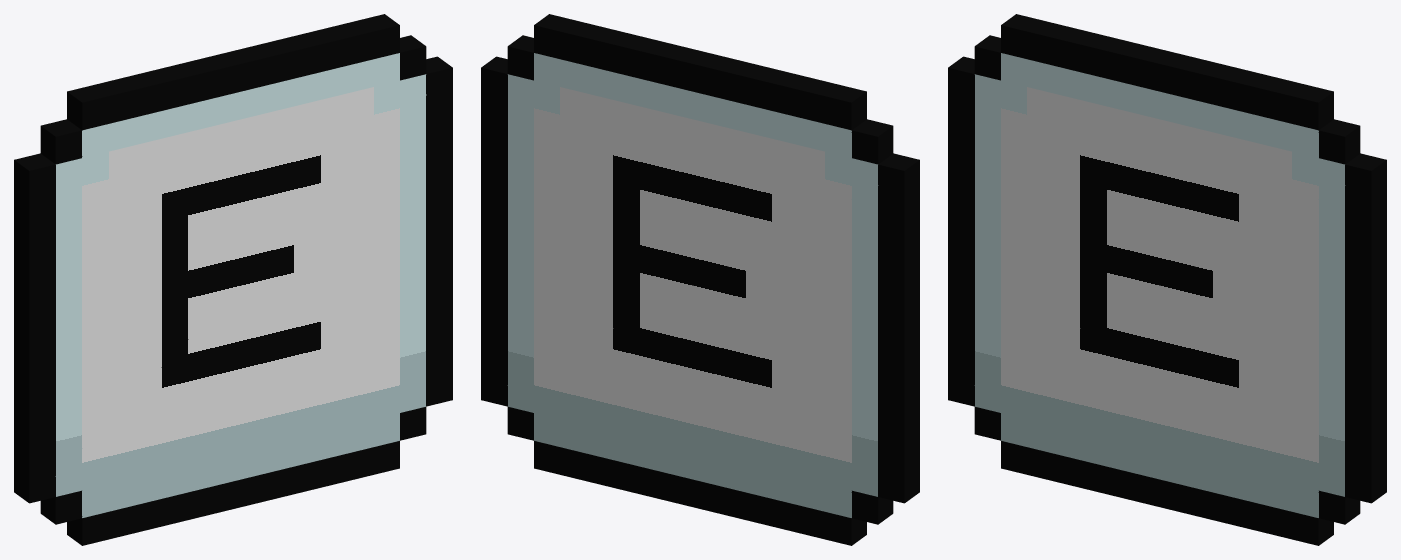
File: InteractionIndicator.fbx
The picture shows the model from 3 angles, left to right: view 1: azimuth 30°, elevation 25°; view 2: azimuth 150°, elevation 25°; view 3: azimuth 330°, elevation 25°; orthographic projection.
Parts seen in each view (by area): view 1: cube_2, cube, cube_1, cube_4, cube_3; view 2: cube_2, cube, cube_1, cube_4, cube_3; view 3: cube_2, cube, cube_1, cube_4, cube_3.
Part boxes in pixels (x1,y1,x2,y2): cube_2: (14, 56, 452, 503); cube: (67, 14, 399, 130); cube_1: (40, 35, 426, 164); cube_4: (40, 407, 426, 524); cube_3: (67, 441, 399, 545); cube_2: (481, 56, 919, 503); cube: (534, 14, 866, 130); cube_1: (507, 35, 893, 164); cube_4: (507, 407, 893, 524); cube_3: (534, 441, 866, 545); cube_2: (948, 56, 1386, 503); cube: (1001, 14, 1333, 130); cube_1: (974, 35, 1360, 164); cube_4: (974, 407, 1360, 524); cube_3: (1001, 441, 1333, 545).
Bounding box in the file's own units: 100 × 100 × 6.25.
1 material, 1 textured.
